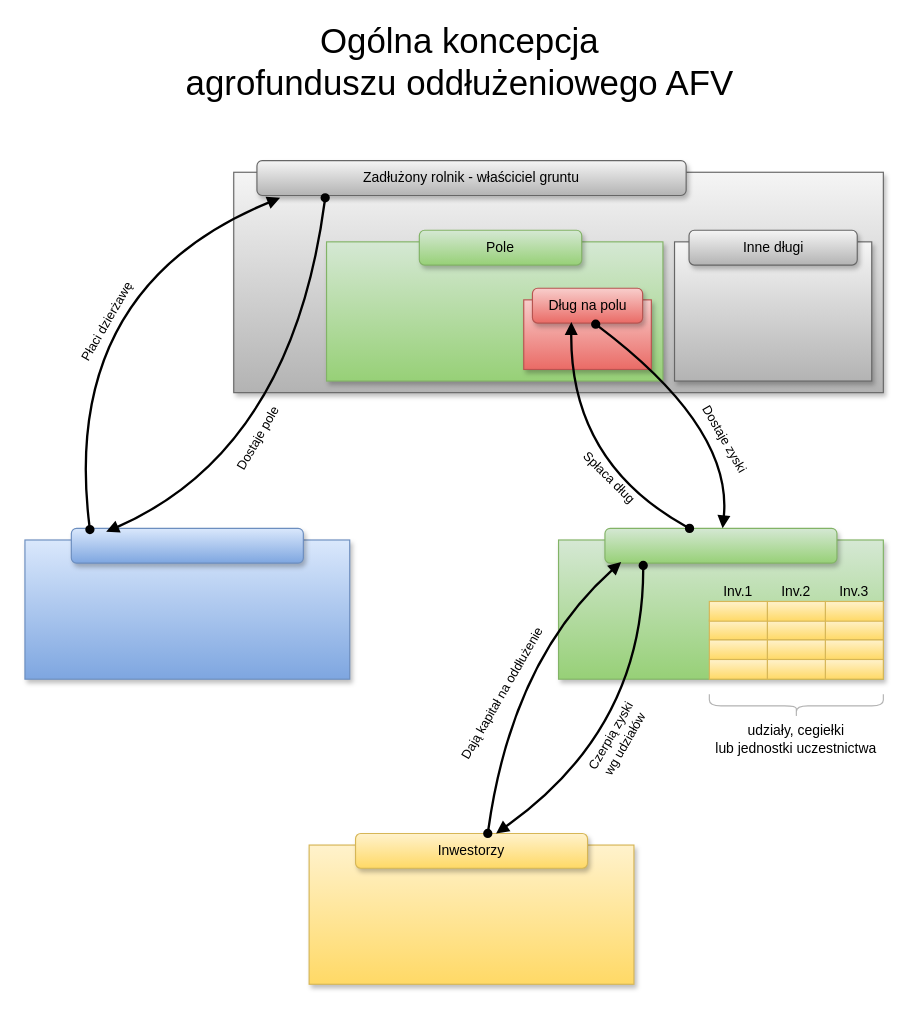
This 915x1013 diagram has some shape labels left out. The shapes that lost their labels are listed below. From the top down, each one's centre as x and y in pixels, then its label:
pixel 188 547: Inwestor FV - najemca gruntu
pixel 721 547: Fundusz oddłużeniowy AFV
